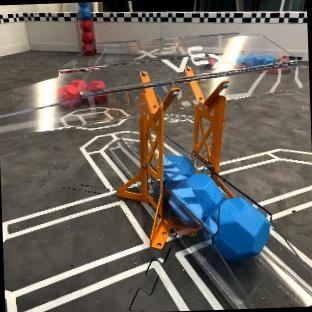V5_BLUE: (204, 193, 269, 260), (167, 174, 224, 221), (162, 155, 194, 182)
V5_RED: (58, 79, 107, 107)
